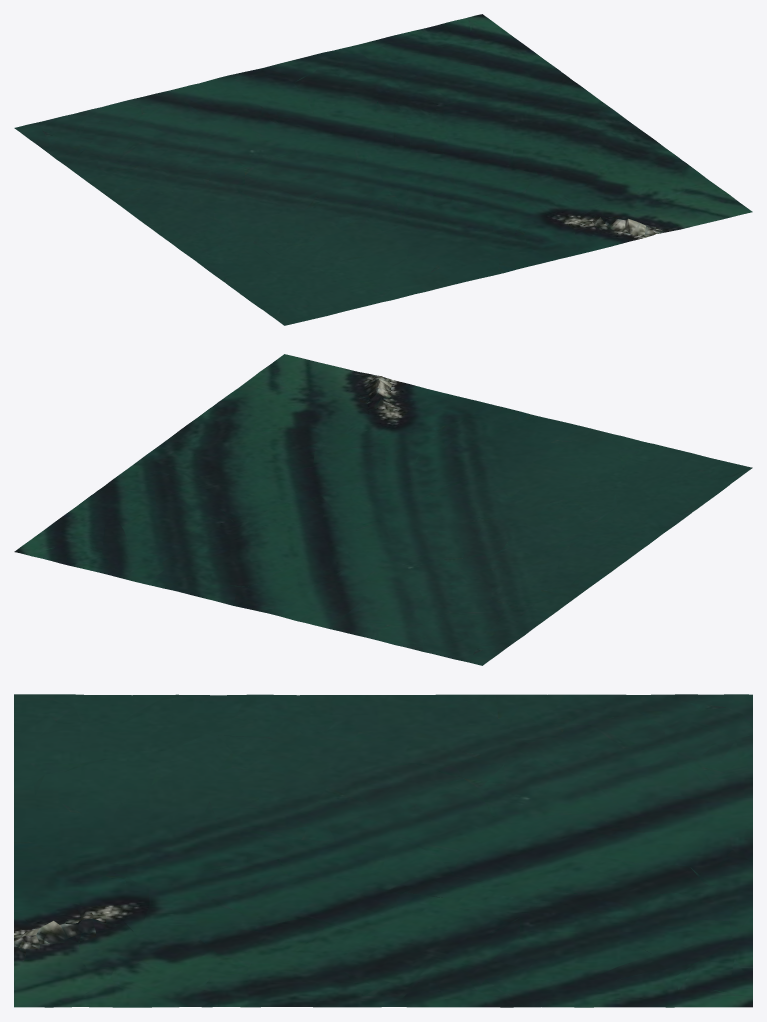
3 renders of one model, top to bottom at view 1: azimuth 30°, elevation 25°; view 2: azimuth 150°, elevation 25°; view 3: azimuth 270°, elevation 25°, orthographic. The views are drawn at different scales.
Size of the model in its own units: 209 by 4.34 by 209.
3 materials, 3 textured.
